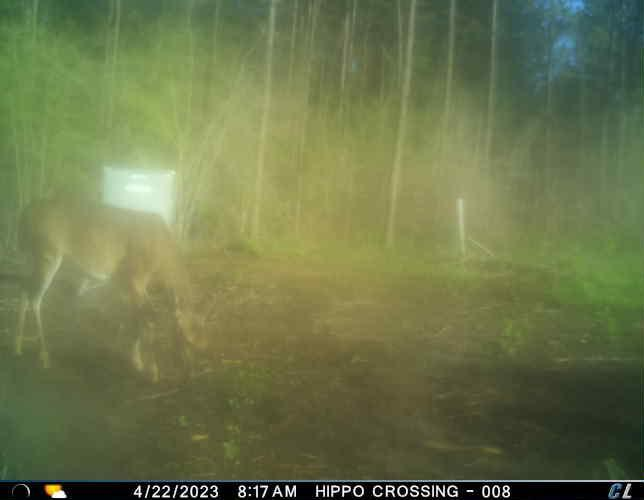Deer: (9, 194, 224, 384)
